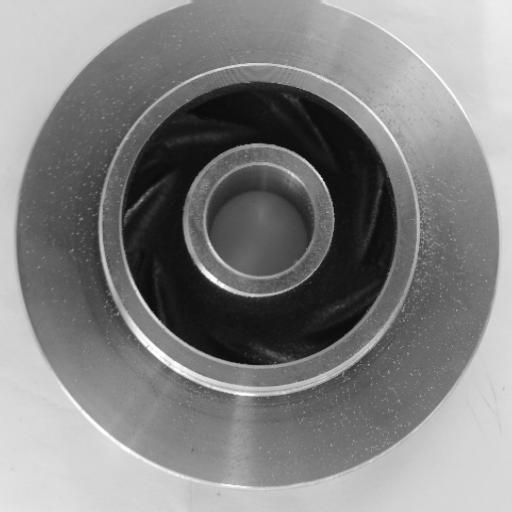polished_casting: (18, 0, 502, 489)
